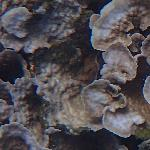dead: (1, 1, 145, 146)
